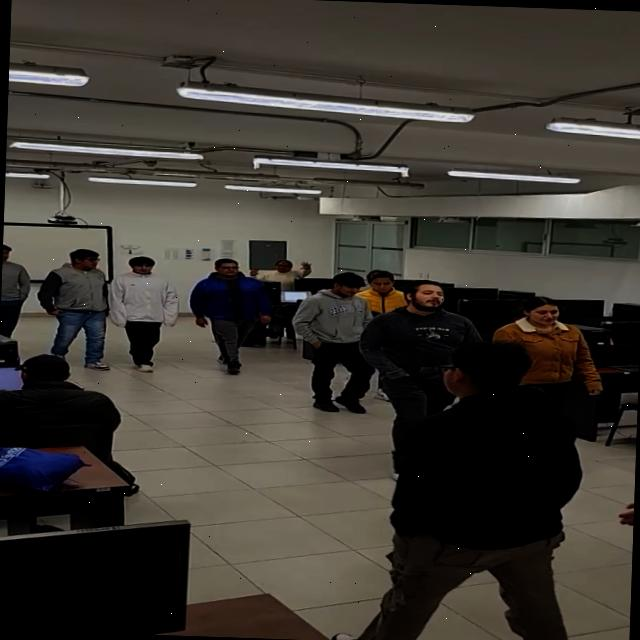Persona: (353, 343, 562, 640), (298, 272, 369, 413), (382, 280, 469, 376), (202, 256, 266, 376), (502, 298, 606, 370), (42, 248, 107, 362), (114, 250, 176, 364), (0, 240, 26, 359), (253, 252, 304, 290)
